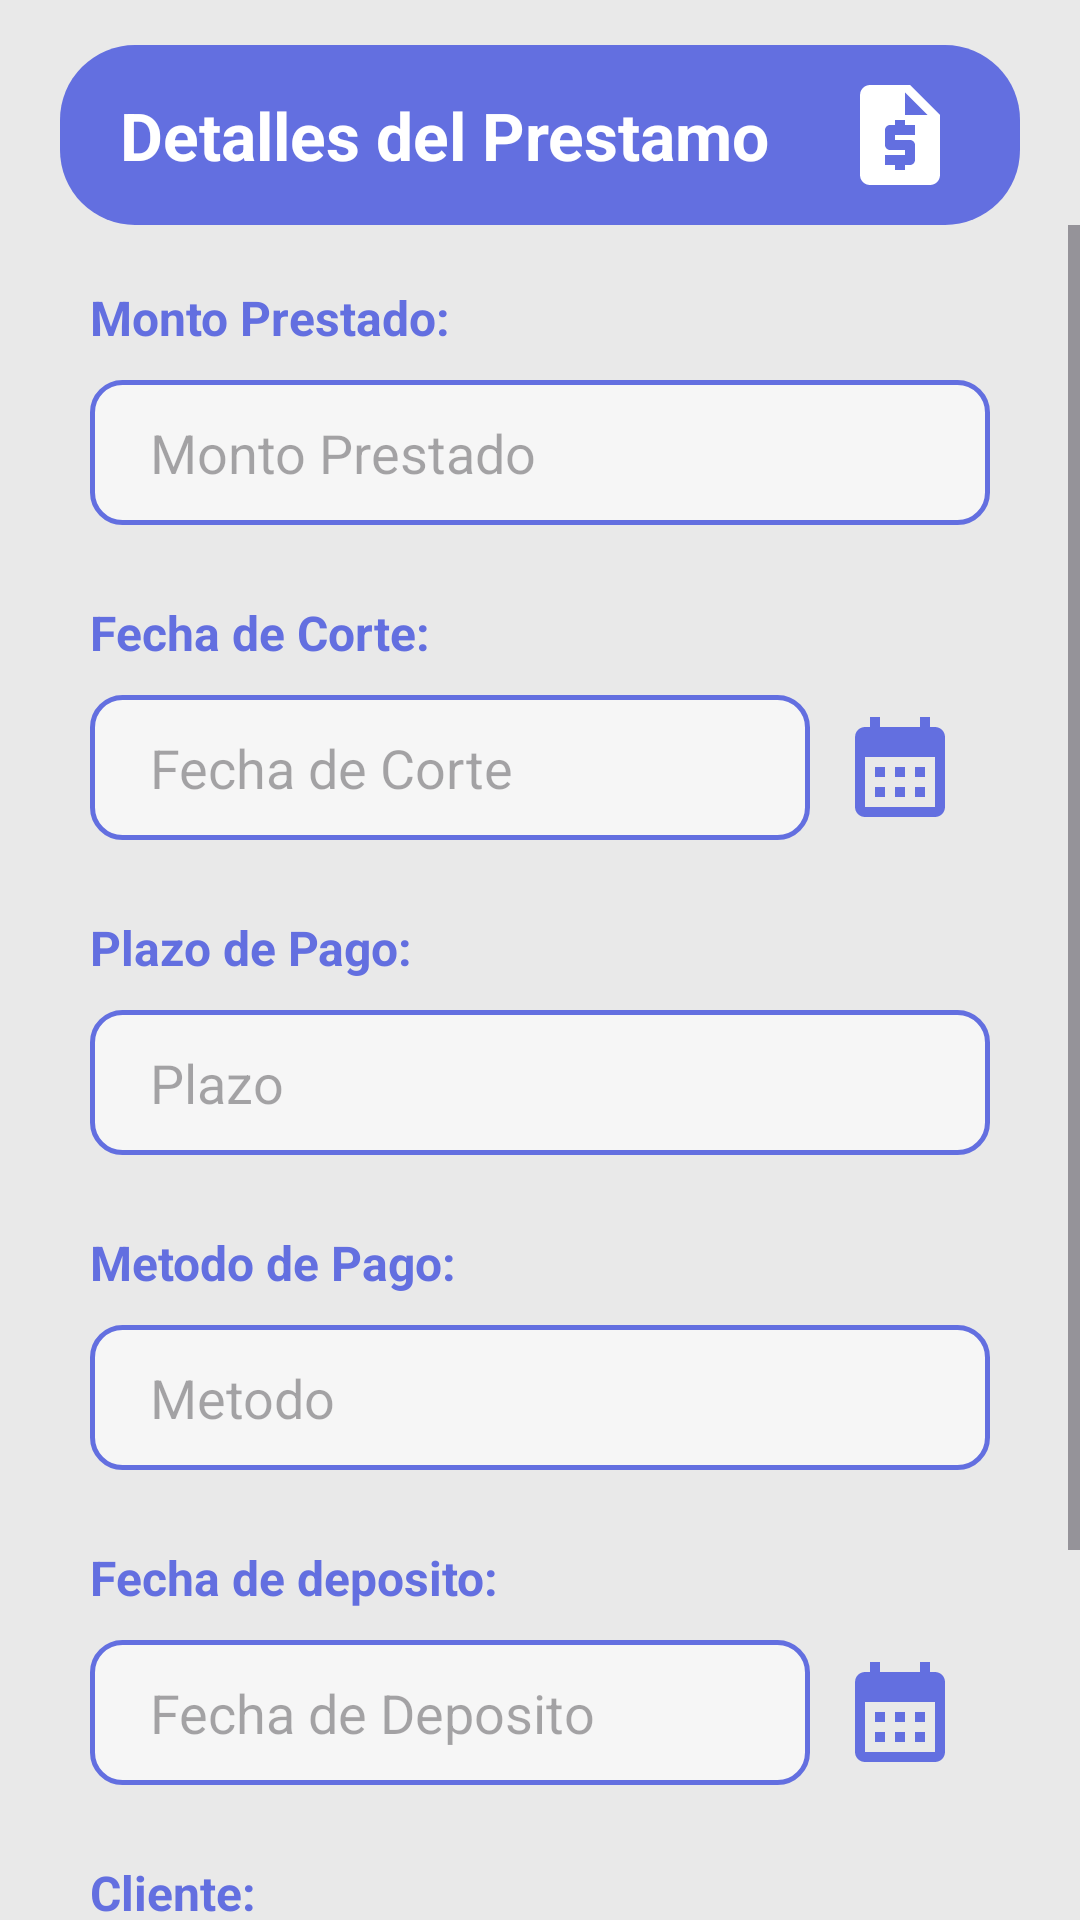

Icons on this 1080x1920 Android screen, each with the point to tap as [x,y]:
calendar: [900,767], [900,1712]
